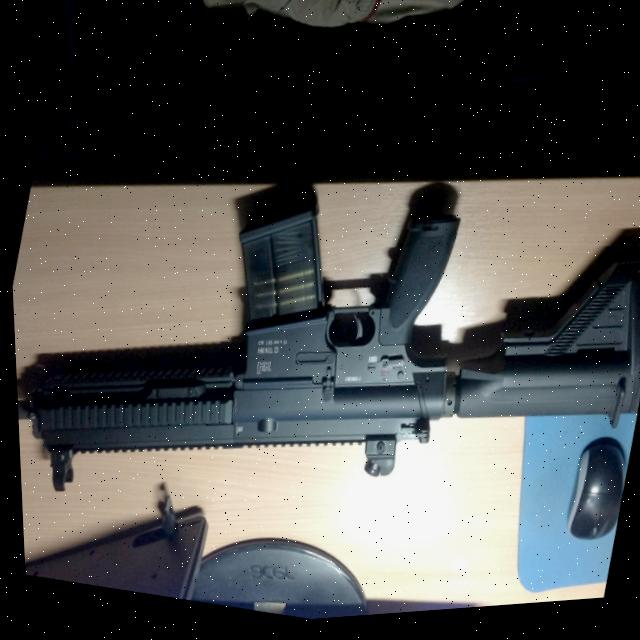firearm: (5, 107, 640, 623)
